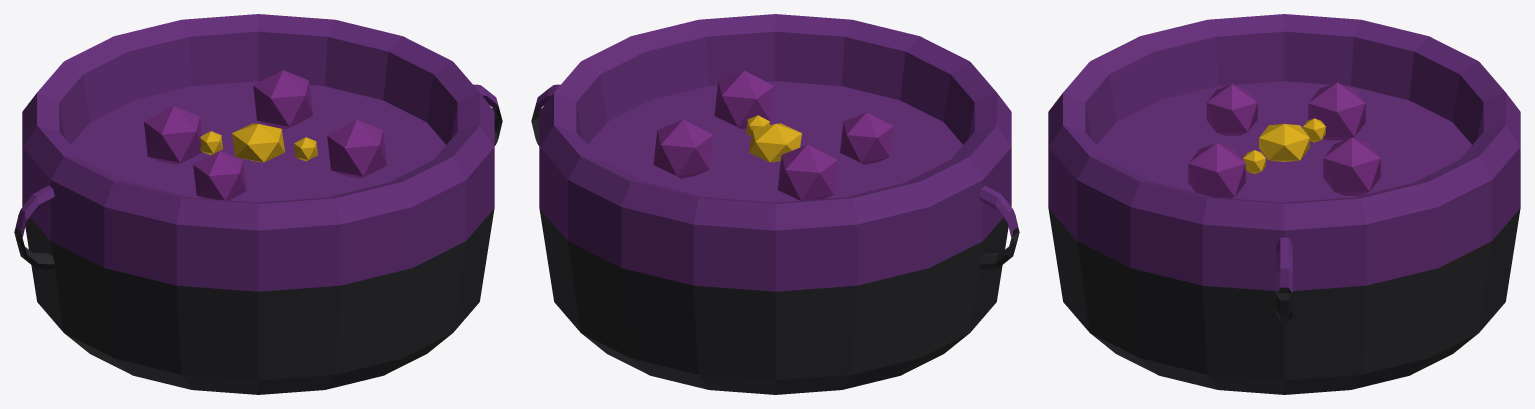
File: Royal_Stew.glb
3 views of the same model, side by side, from view 1: azimuth 30°, elevation 25°; view 2: azimuth 150°, elevation 25°; view 3: azimuth 270°, elevation 25° (orthographic).
Parts seen in each view (by area): view 1: _I_RoyalStew; view 2: _I_RoyalStew; view 3: _I_RoyalStew.
Part boxes in pixels (x1,y1,x2,y2): _I_RoyalStew: (14, 14, 502, 394); _I_RoyalStew: (531, 14, 1019, 394); _I_RoyalStew: (1048, 14, 1520, 394).
Size of the model in its own units: 0.74 by 0.3 by 0.6303.
